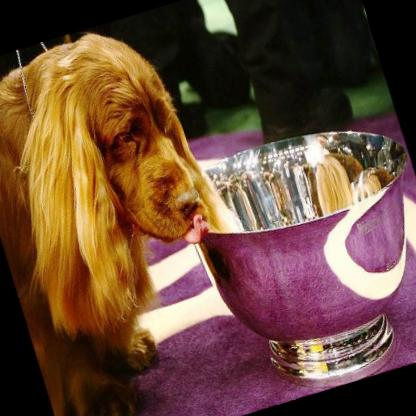Sussex_spaniel: (0, 10, 274, 416)
